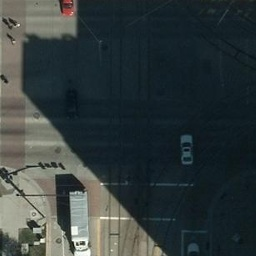car: (178, 134, 196, 166), (58, 1, 75, 18)
